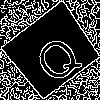Q: (26, 26, 86, 89)
